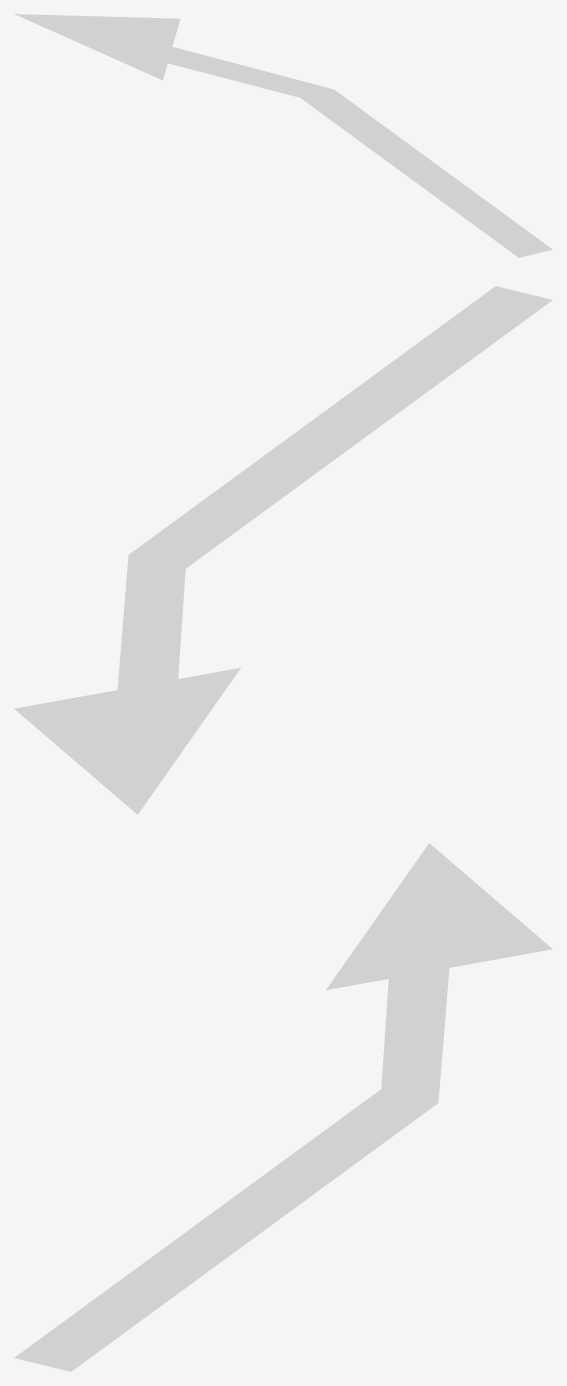
Rendered from arrow_l.fbx.
3 views of the same model, one above another, from view 1: azimuth 30°, elevation 25°; view 2: azimuth 150°, elevation 25°; view 3: azimuth 330°, elevation 25° (orthographic). The views are drawn at different scales.
Visible parts, largest first — view 1: arrow_l; view 2: arrow_l; view 3: arrow_l.
Boxes of the visible parts, x1=… form: arrow_l: x1=14, y1=14, x2=552, y2=257; arrow_l: x1=14, y1=286, x2=552, y2=814; arrow_l: x1=14, y1=843, x2=552, y2=1371.
Size of the model in its own units: 1.64 by 4.07e-06 by 6.55.
